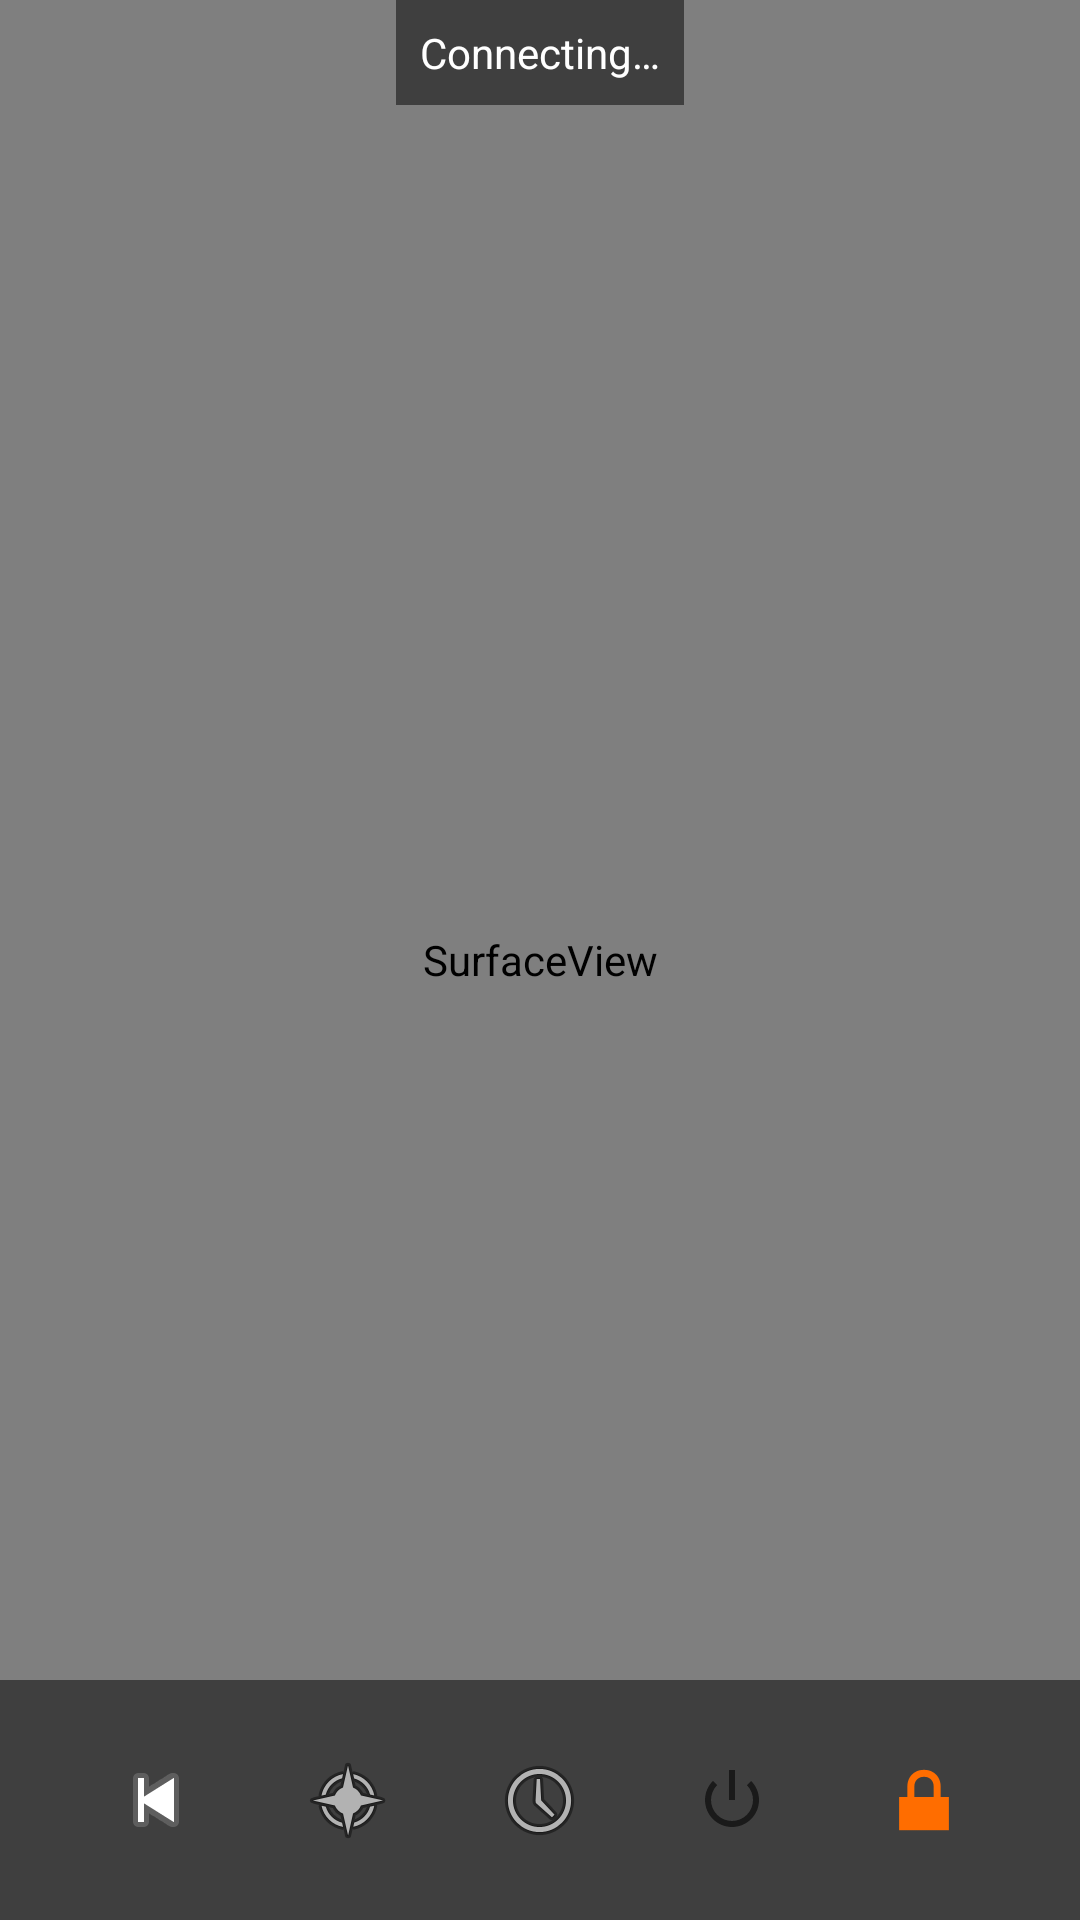

Named icons in this screenshot (1080 × 1920) and their centers, [x,y]:
Back: [156,1800]
Force Unlock: [924,1800]
Recent Apps: [539,1800]
Screen Off: [732,1798]
